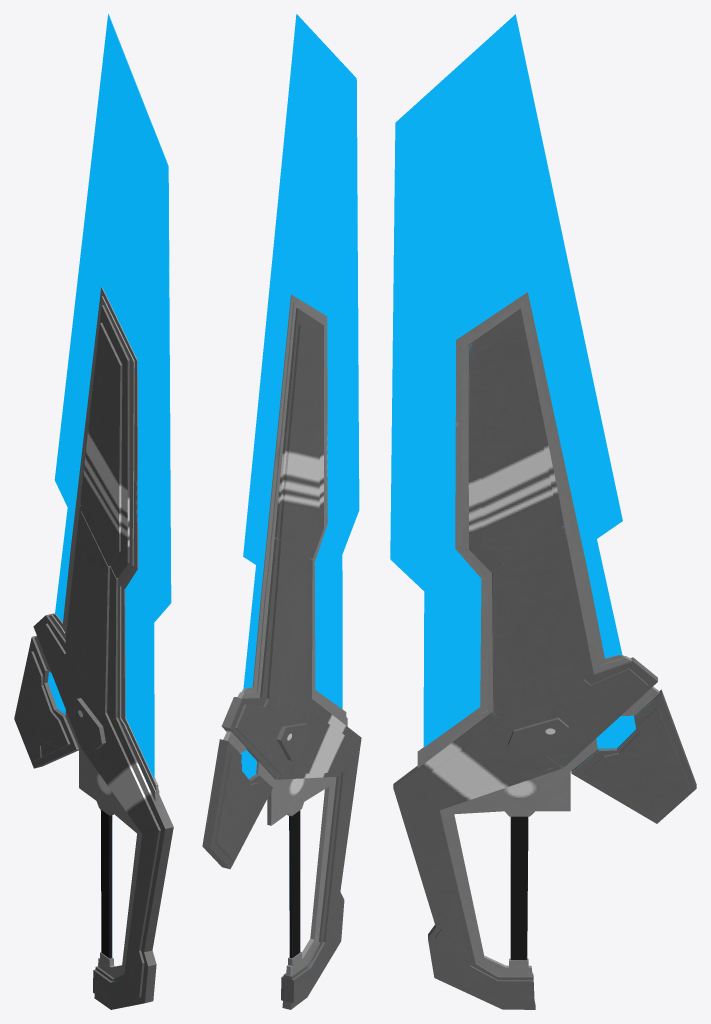
Rendered from sword1.fbx.
3 renders of one model, left to right at view 1: azimuth 30°, elevation 25°; view 2: azimuth 150°, elevation 25°; view 3: azimuth 270°, elevation 25°, orthographic.
Visible parts, largest first — view 1: sword1; view 2: sword1; view 3: sword1.
Part boxes in pixels (x1,y1,x2,y2): sword1: (14,14,173,1009); sword1: (202,14,361,1009); sword1: (390,14,696,1009).
Size of the model in its own units: 13.41 by 605 by 169.
Materials: 1 (1 with a texture image).
